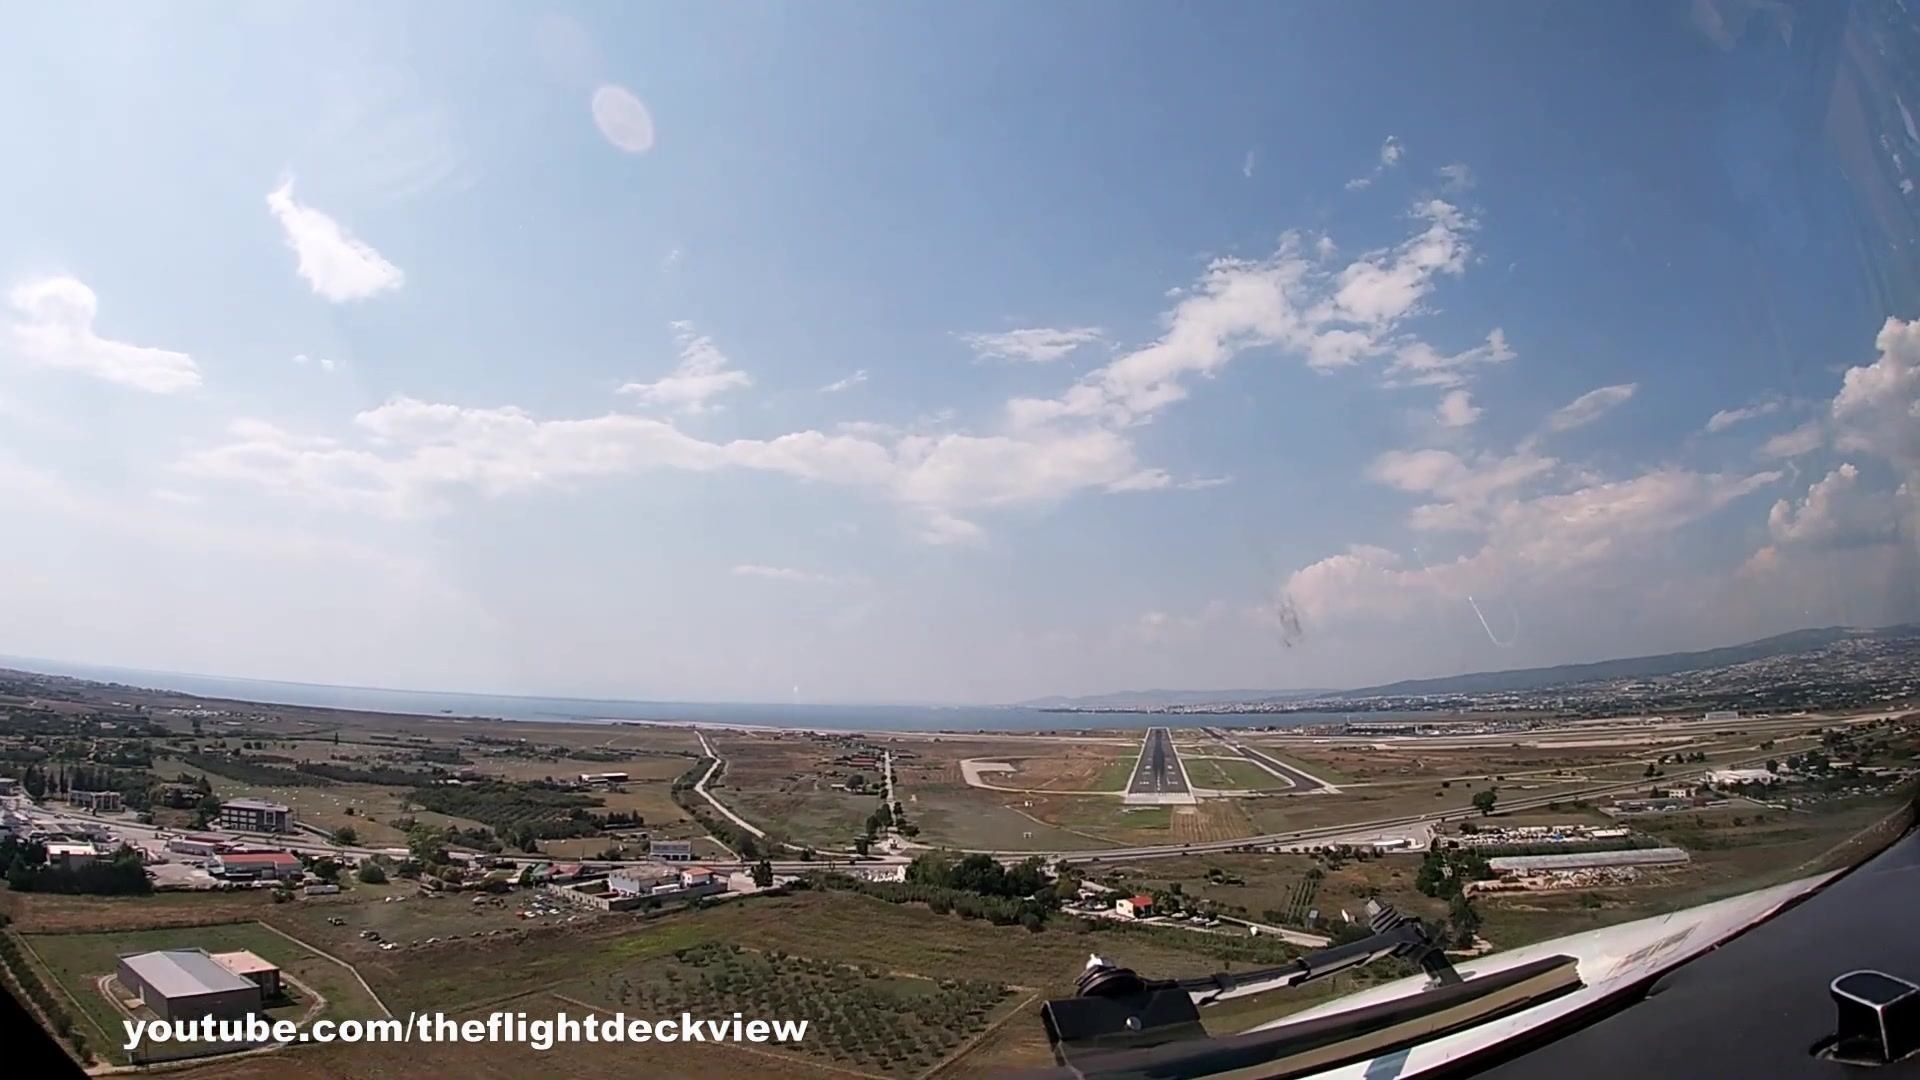entrance: (1127, 791, 1189, 796)
runway: (1124, 727, 1196, 804)
